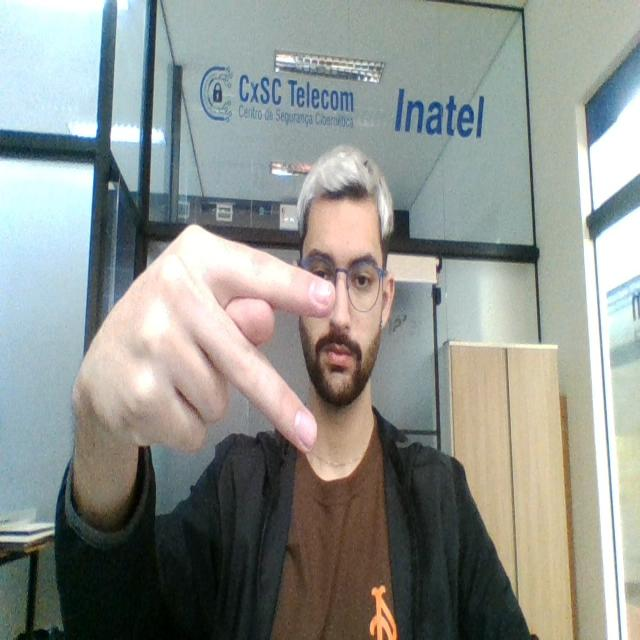P: (71, 215, 336, 469)
